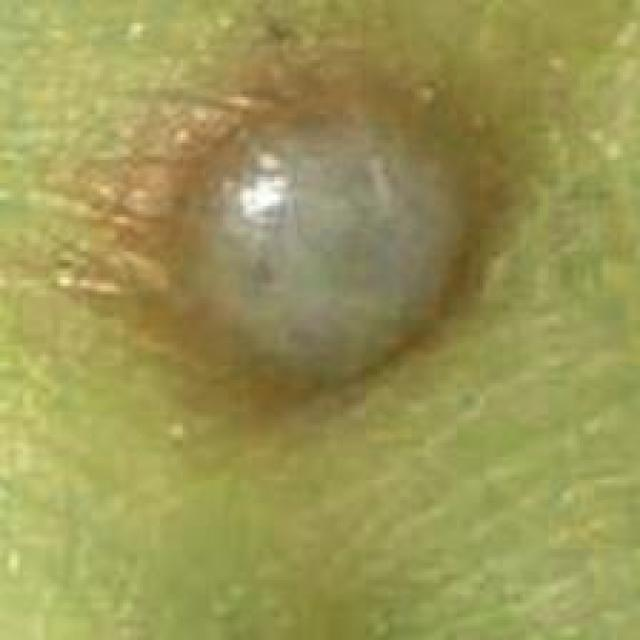monkeypox: (41, 14, 612, 634)
